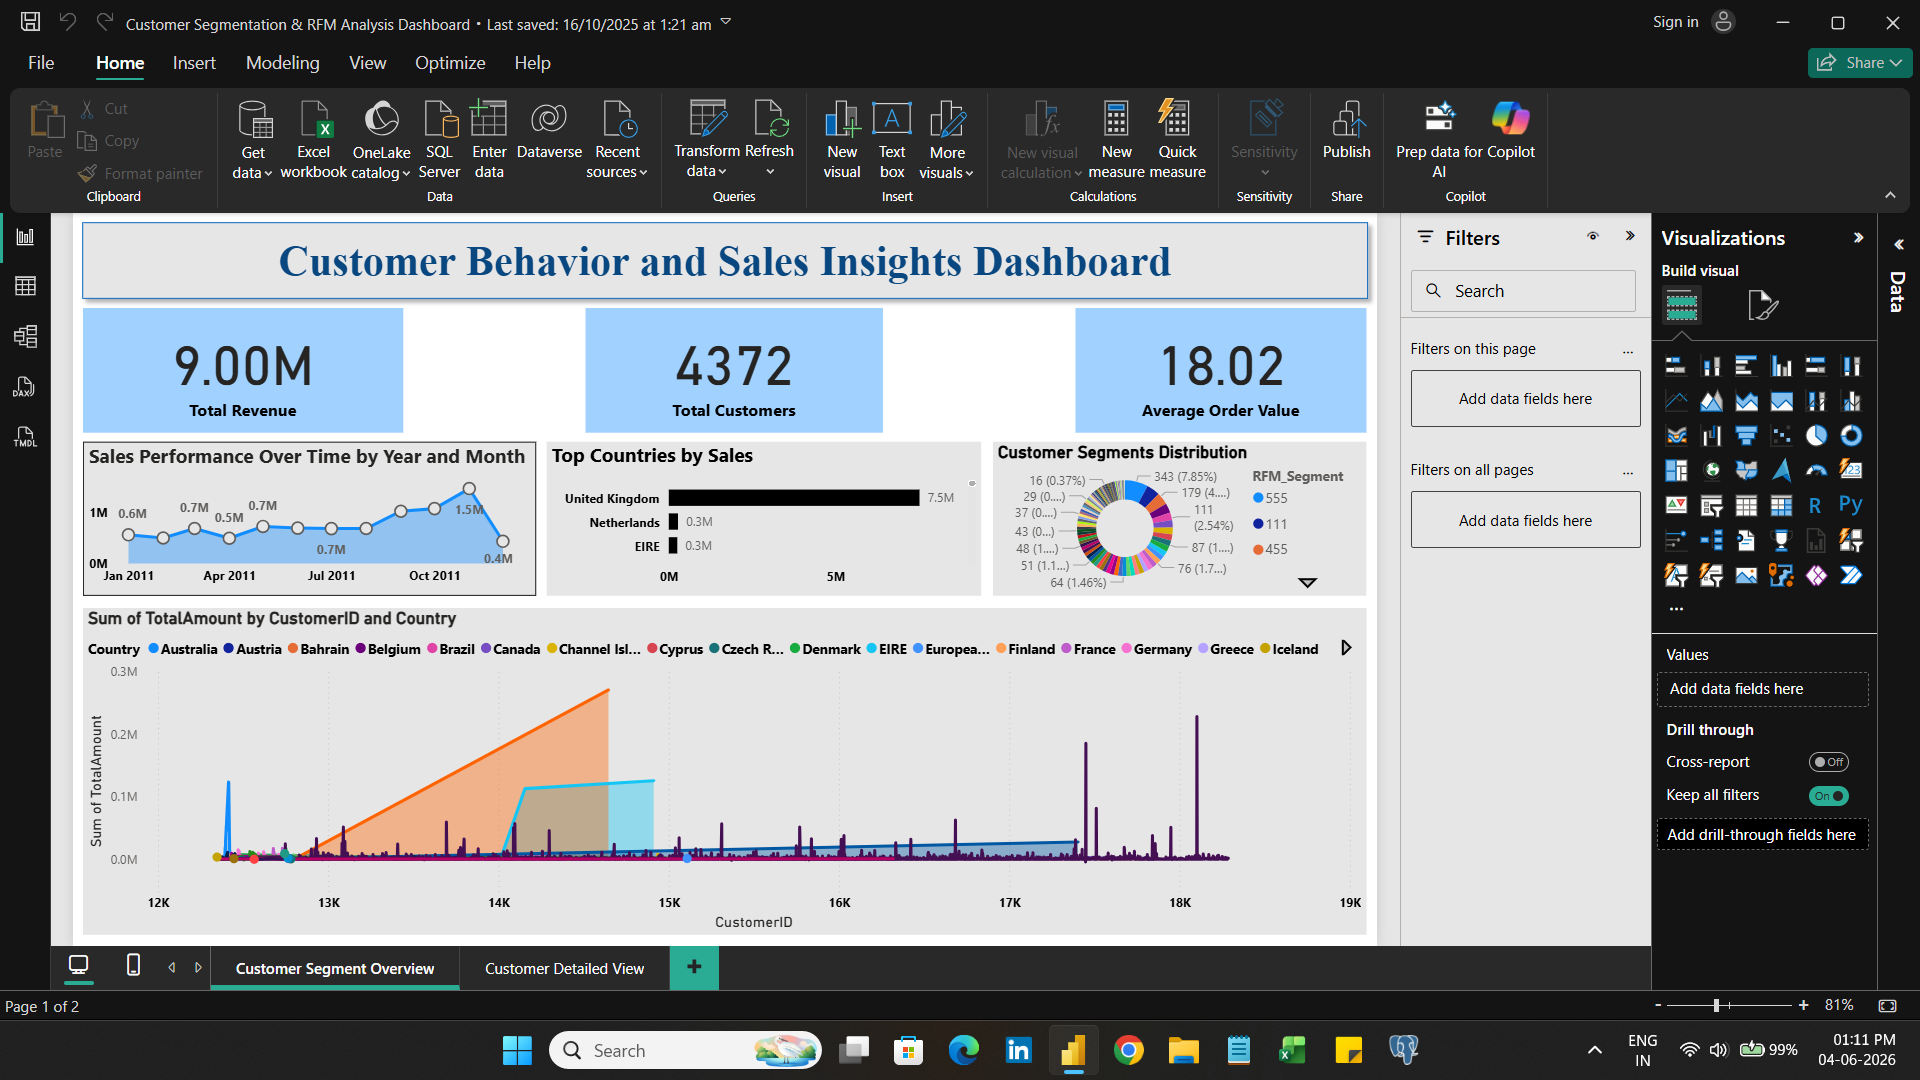

This screenshot's page, from the dashboard's own definition file:
{"tool":"powerbi","page":{"name":"Customer Segment Overview","canvas":[1280,720],"ordinal":0},"visuals":[{"type":"shape","box":[0,0,1280.3,93.3],"z":0},{"type":"card","fields":{"Values":["Sum(cleaned_customer_data.TotalAmount)"]},"box":[9.6,93.3,314.2,122.1],"z":1000},{"type":"card","fields":{"Values":["CountNonNull(customer_rfm_segments (2).CustomerID)"]},"box":[503.6,93.3,292.3,122.1],"z":2000},{"type":"card","fields":{"Values":["Avg(cleaned_customer_data.TotalAmount)"]},"box":[983.9,93.3,285.4,122.1],"z":3000},{"type":"lineChart","fields":{"Y":["Sum(cleaned_customer_data.TotalAmount)"],"Category":["cleaned_customer_data.InvoiceDate.Variation.Date Hierarchy.Year","cleaned_customer_data.InvoiceDate.Variation.Date Hierarchy.Month"]},"box":[9.6,225,444.6,150.9],"z":4000},{"type":"clusteredBarChart","title":"Top Countries by Sales ","fields":{"Y":["Sum(cleaned_customer_data.TotalAmount)"],"Category":["cleaned_customer_data.Country"]},"box":[465.2,225,426.8,150.9],"z":5000},{"type":"donutChart","title":"Customer Segments Distribution","fields":{"Category":["customer_rfm_segments (2).RFM_Segment"],"Y":["CountNonNull(customer_rfm_segments (2).CustomerID)"]},"box":[902.9,225,366.4,150.9],"z":6000},{"type":"areaChart","fields":{"Category":["cleaned_customer_data.CustomerID"],"Y":["Sum(cleaned_customer_data.TotalAmount)"],"Series":["cleaned_customer_data.Country"]},"box":[9.6,388.3,1259.7,321.1],"z":7000}]}

Visuals, with their boxes on the page's 1280x720 design canvas (x1, y1, x2, y2). These are canvas units, not pixel positions in the 1920x1080 screenshot, which may show the page scaled, cropped or inside an application window:
shape: (0, 0, 1280, 93)
card - Sum(cleaned_customer_data.TotalAmount): (10, 93, 324, 215)
card - CountNonNull(customer_rfm_segments (2).CustomerID): (504, 93, 796, 215)
card - Avg(cleaned_customer_data.TotalAmount): (984, 93, 1269, 215)
lineChart - Sum(cleaned_customer_data.TotalAmount) x cleaned_customer_data.InvoiceDate.Variation.Date Hierarchy.Year: (10, 225, 454, 376)
"Top Countries by Sales " clusteredBarChart: (465, 225, 892, 376)
"Customer Segments Distribution" donutChart: (903, 225, 1269, 376)
areaChart - cleaned_customer_data.CustomerID x Sum(cleaned_customer_data.TotalAmount): (10, 388, 1269, 709)
